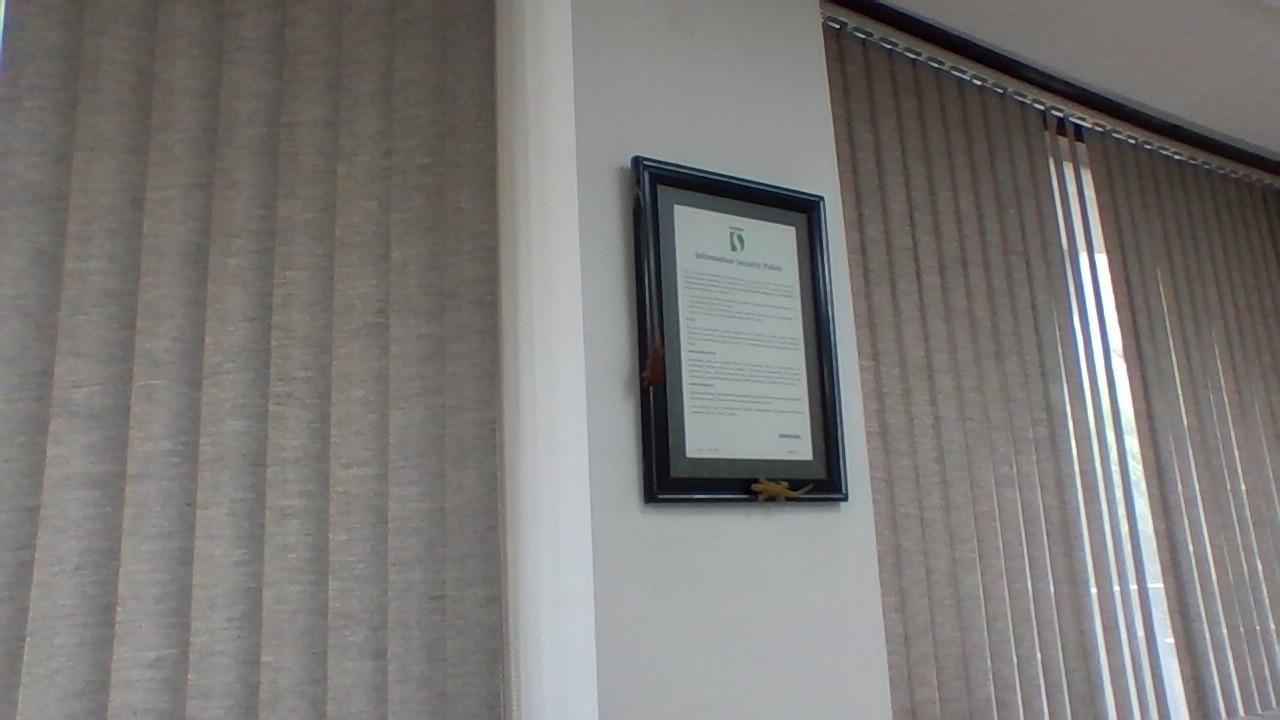cockroach: (636, 317, 677, 412)
lizard: (743, 476, 827, 517)
